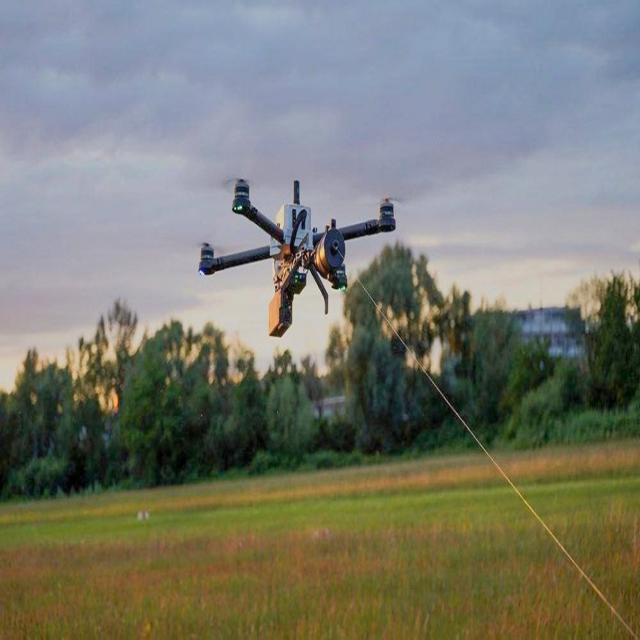drone: (190, 169, 410, 344)
